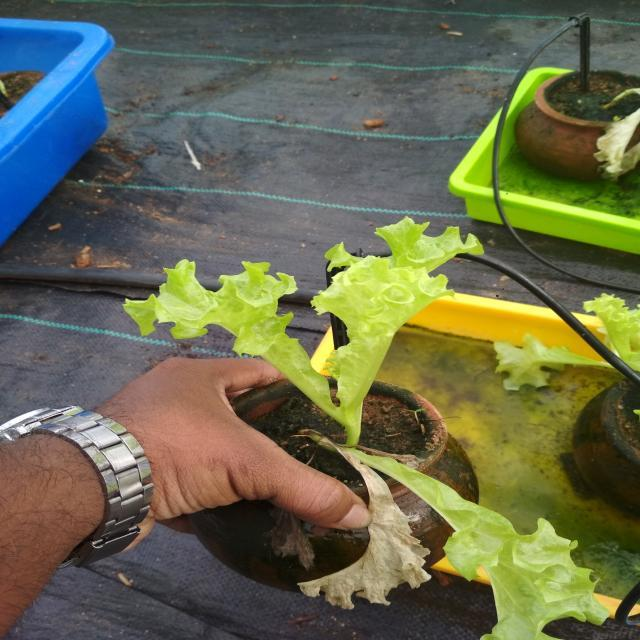Lettuce-Not-Ready-to-Harvest: (117, 216, 604, 640)
